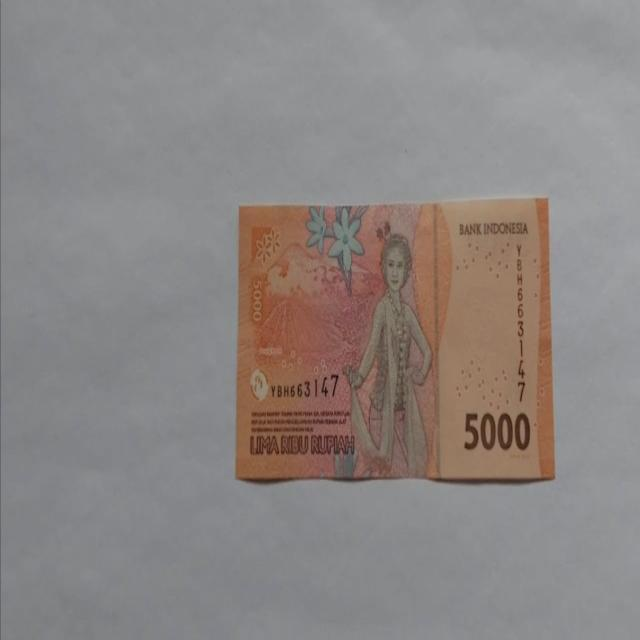lima ribu rupiah: (235, 196, 555, 484), (341, 232, 433, 478)
